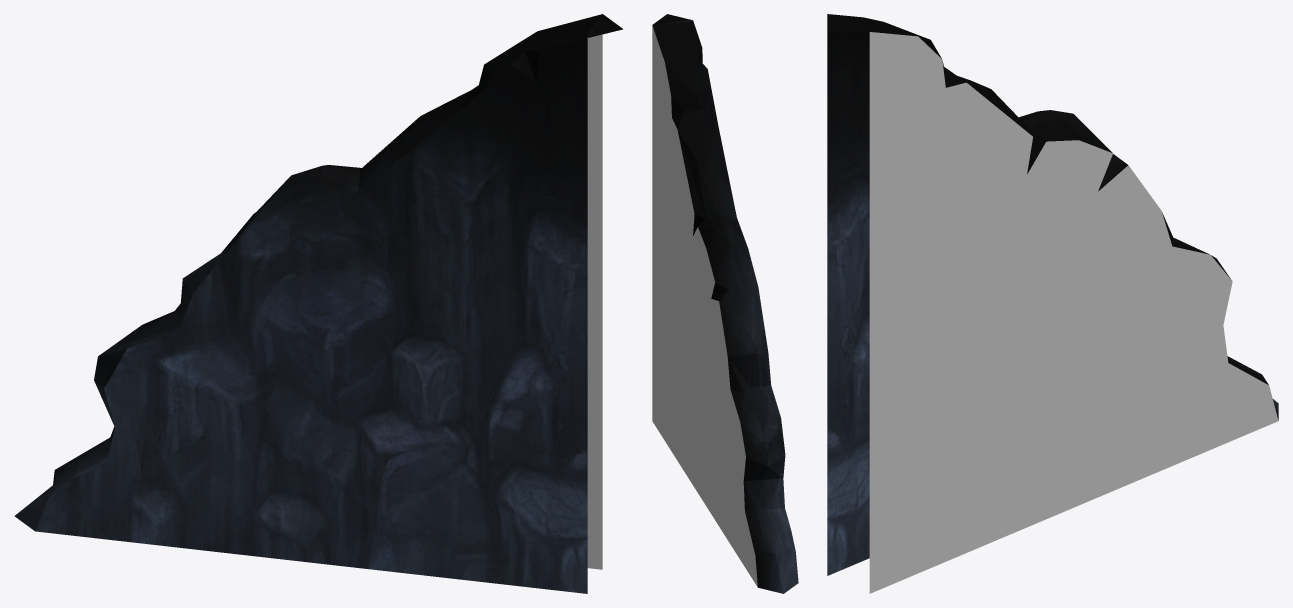
Rendered from mine_fade_transition_09.fbx.
3 renders of one model, left to right at view 1: azimuth 30°, elevation 25°; view 2: azimuth 150°, elevation 25°; view 3: azimuth 270°, elevation 25°, orthographic. The views are drawn at different scales.
Visible parts, largest first — view 1: obj2.018; view 2: obj2.018; view 3: obj2.018.
Boxes of the visible parts, x1,y1,x2,y2 form: obj2.018: [14, 14, 622, 593]; obj2.018: [652, 14, 798, 593]; obj2.018: [827, 14, 1278, 593].
Size of the model in its own units: 4 by 5.5 by 4.
